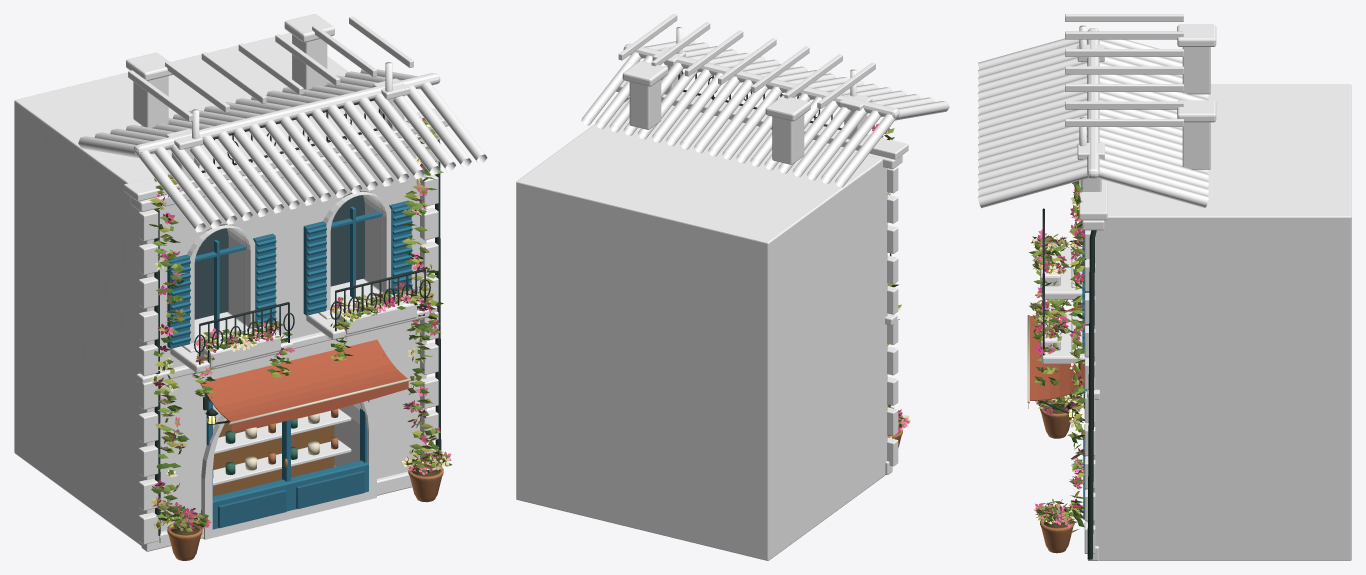
Rendered from MansionCoral.glb.
3 renders of one model, left to right at view 1: azimuth 30°, elevation 25°; view 2: azimuth 150°, elevation 25°; view 3: azimuth 270°, elevation 25°, orthographic. The views are drawn at different scales.
Visible parts, largest first — view 1: RK_MansionCoral_RK_CoralPlaster, RK_MansionCoral_RK_Tile, RK_MansionCoral_RK_Stone, RK_MansionCoral_RK_Blue, RK_MansionCoral_RK_RedCanvas, RK_MansionCoral_RK_Wood, RK_MansionCoral_RK_Iron, RK_MansionCoral_RK_Glass, RK_MansionCoral_RK_Leaf, RK_MansionCoral_RK_LeafGold, RK_MansionCoral_RK_LeafDark, RK_MansionCoral_RK_CanvasBlue (+7 smaller); view 2: RK_MansionCoral_RK_CoralPlaster, RK_MansionCoral_RK_Tile, RK_MansionCoral_RK_Stone, RK_MansionCoral_RK_Wood, RK_MansionCoral_RK_CreamPlaster; view 3: RK_MansionCoral_RK_CoralPlaster, RK_MansionCoral_RK_Tile, RK_MansionCoral_RK_Wood, RK_MansionCoral_RK_Stone, RK_MansionCoral_RK_CreamPlaster, RK_MansionCoral_RK_Iron, RK_MansionCoral_RK_Leaf, RK_MansionCoral_RK_LeafGold, RK_MansionCoral_RK_RedCanvas, RK_MansionCoral_RK_LeafDark, RK_MansionCoral_RK_Terracotta, RK_MansionCoral_RK_FlowerPink (+2 smaller).
Part boxes in pixels (x1=…): RK_MansionCoral_RK_CoralPlaster: x1=14, y1=33, x2=426, y2=545; RK_MansionCoral_RK_Tile: x1=78, y1=14, x2=487, y2=232; RK_MansionCoral_RK_Stone: x1=124, y1=78, x2=448, y2=551; RK_MansionCoral_RK_Blue: x1=167, y1=200, x2=412, y2=529; RK_MansionCoral_RK_RedCanvas: x1=200, y1=339, x2=408, y2=431; RK_MansionCoral_RK_Wood: x1=128, y1=16, x2=413, y2=485; RK_MansionCoral_RK_Iron: x1=154, y1=98, x2=441, y2=542; RK_MansionCoral_RK_Glass: x1=194, y1=191, x2=364, y2=319; RK_MansionCoral_RK_Leaf: x1=151, y1=117, x2=450, y2=531; RK_MansionCoral_RK_LeafGold: x1=149, y1=133, x2=451, y2=531; RK_MansionCoral_RK_LeafDark: x1=149, y1=123, x2=450, y2=529; RK_MansionCoral_RK_CanvasBlue: x1=218, y1=470, x2=364, y2=528; RK_MansionCoral_RK_CoralPlaster: x1=516, y1=99, x2=887, y2=560; RK_MansionCoral_RK_Tile: x1=581, y1=40, x2=949, y2=187; RK_MansionCoral_RK_Stone: x1=616, y1=47, x2=908, y2=474; RK_MansionCoral_RK_Wood: x1=618, y1=14, x2=875, y2=108; RK_MansionCoral_RK_CreamPlaster: x1=629, y1=79, x2=804, y2=164; RK_MansionCoral_RK_CoralPlaster: x1=1093, y1=84, x2=1351, y2=560; RK_MansionCoral_RK_Tile: x1=978, y1=24, x2=1216, y2=208; RK_MansionCoral_RK_Wood: x1=1065, y1=14, x2=1183, y2=185; RK_MansionCoral_RK_Stone: x1=1040, y1=44, x2=1107, y2=560; RK_MansionCoral_RK_CreamPlaster: x1=1182, y1=47, x2=1210, y2=169; RK_MansionCoral_RK_Iron: x1=1038, y1=208, x2=1096, y2=559; RK_MansionCoral_RK_Leaf: x1=1029, y1=181, x2=1085, y2=524; RK_MansionCoral_RK_LeafGold: x1=1031, y1=191, x2=1084, y2=533; RK_MansionCoral_RK_RedCanvas: x1=1028, y1=304, x2=1084, y2=408; RK_MansionCoral_RK_LeafDark: x1=1031, y1=181, x2=1086, y2=527; RK_MansionCoral_RK_Terracotta: x1=1040, y1=400, x2=1074, y2=553; RK_MansionCoral_RK_FlowerPink: x1=1033, y1=208, x2=1084, y2=521.
Size of the model in its own units: 6.8 by 9.12 by 7.23.
